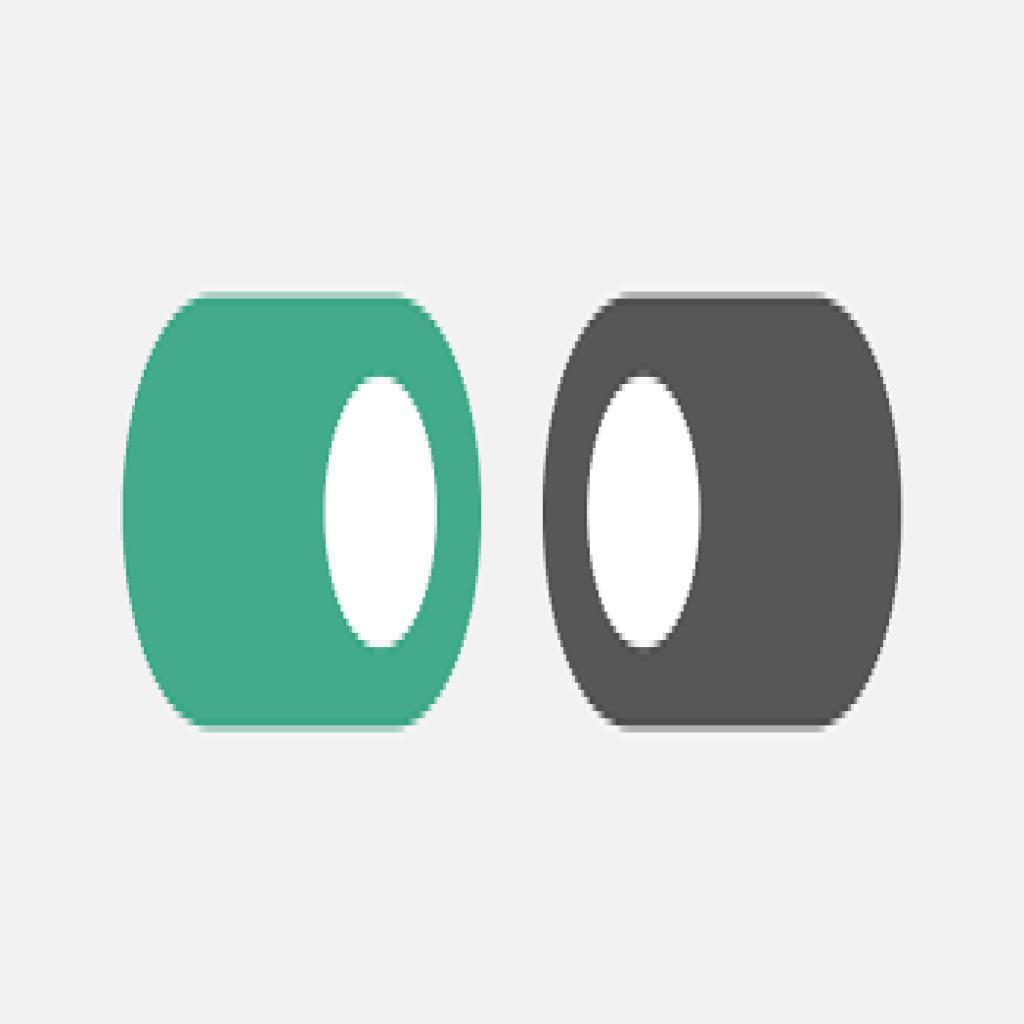switch: (113, 280, 488, 742), (544, 280, 909, 735)
